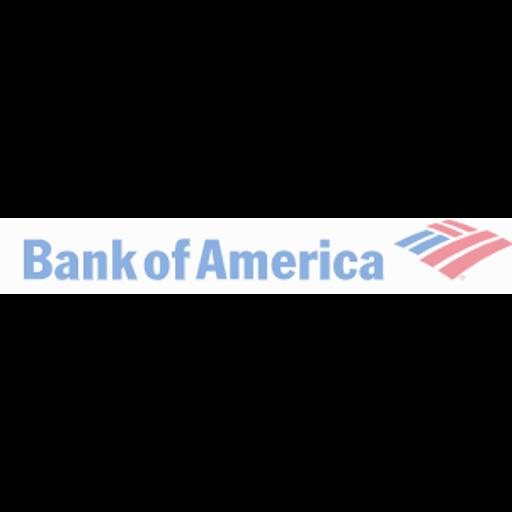Bank of America: (0, 218, 512, 294)
